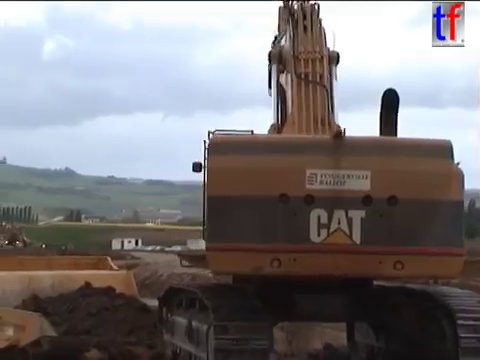excavator: (154, 1, 480, 360), (1, 220, 39, 254)
truck: (1, 251, 160, 360)
